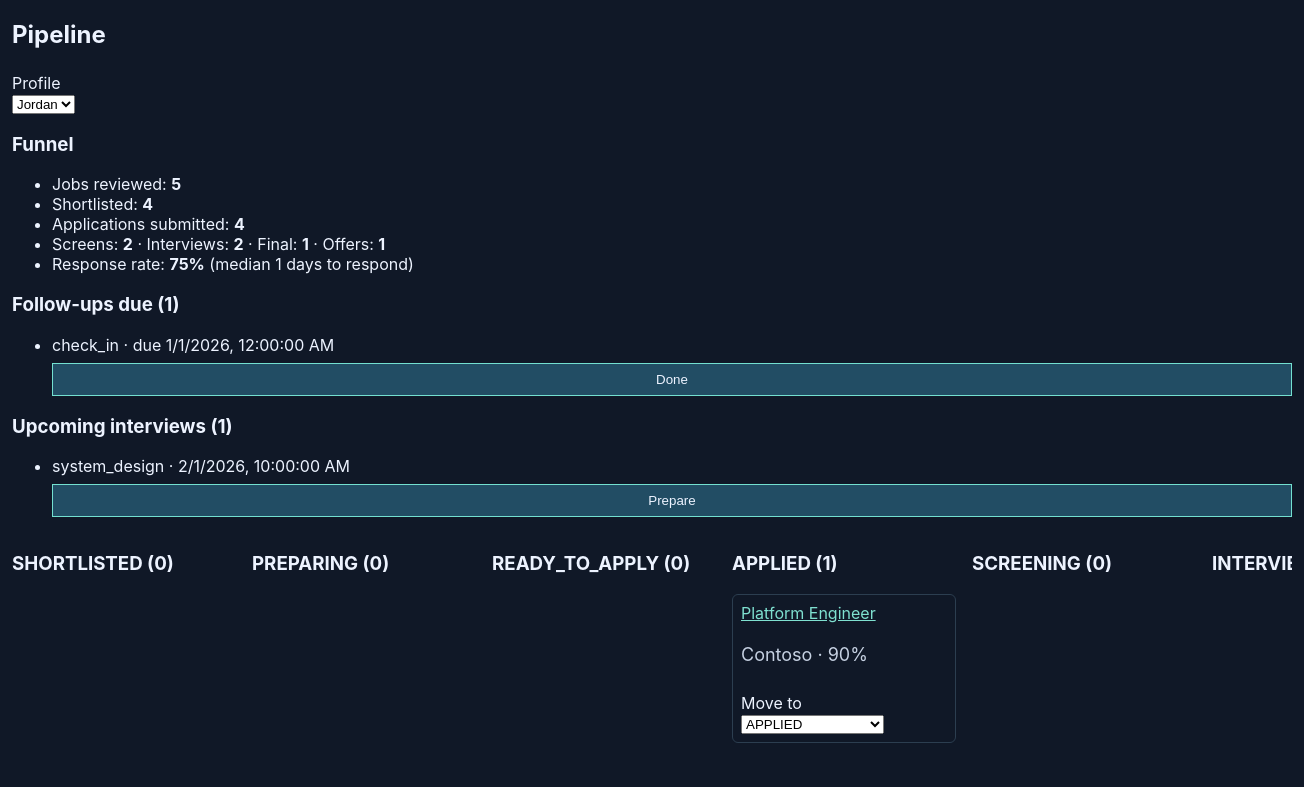
Scenario: Pipeline › moves a card with a validated transition and shows the server's refusal
Select "OFFER" in the dropdown named "Move Platform Engineer": (812, 725) [741,716,884,734]
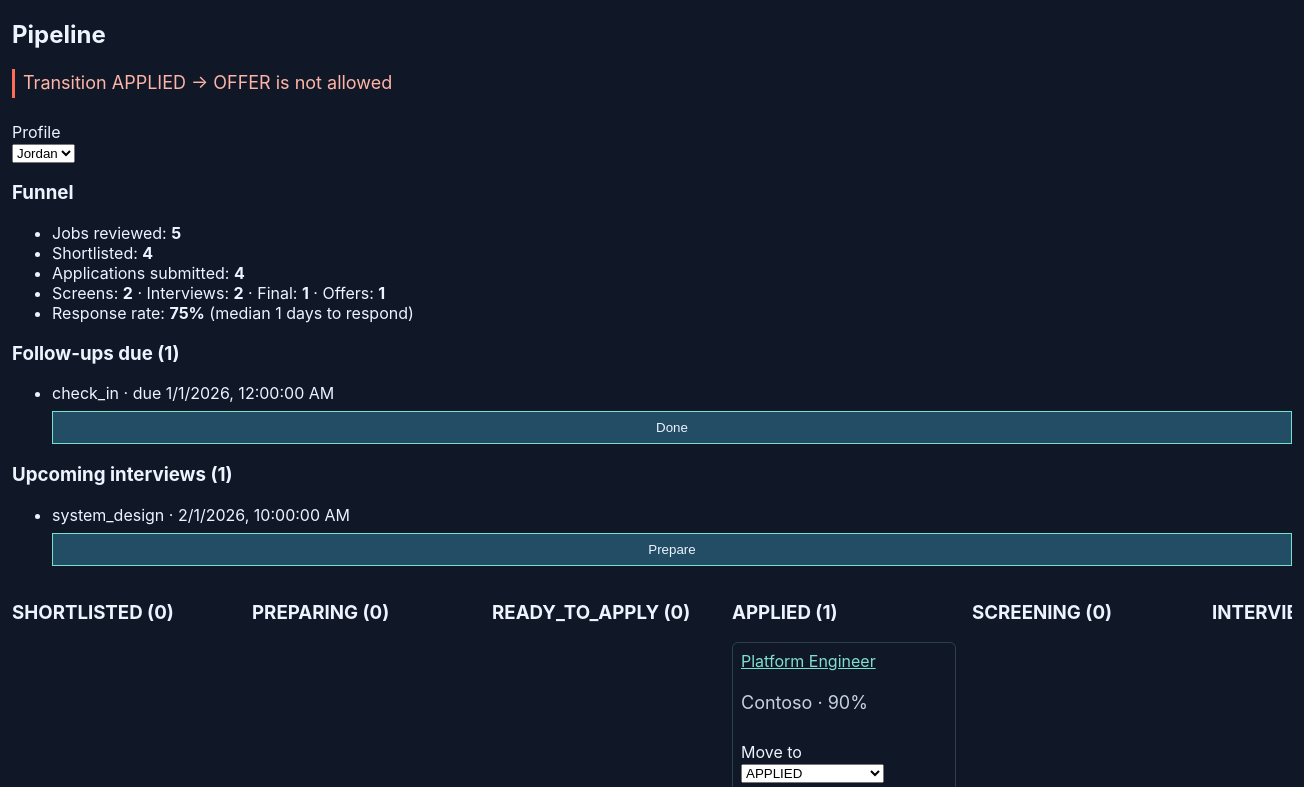
Check: the message shows "not allowed", box [23,72,392,93]
